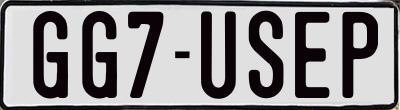7: (126, 11, 167, 98)
E: (292, 10, 328, 96)
G: (31, 10, 68, 104), (81, 11, 120, 100)
P: (339, 10, 376, 102)
S: (249, 9, 288, 101)
U: (200, 8, 236, 98)
